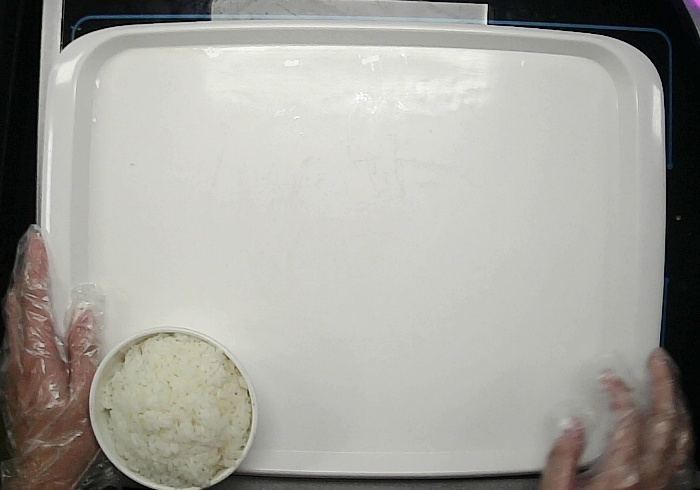HZYJPL-Fan_Wan: (88, 325, 259, 490)
